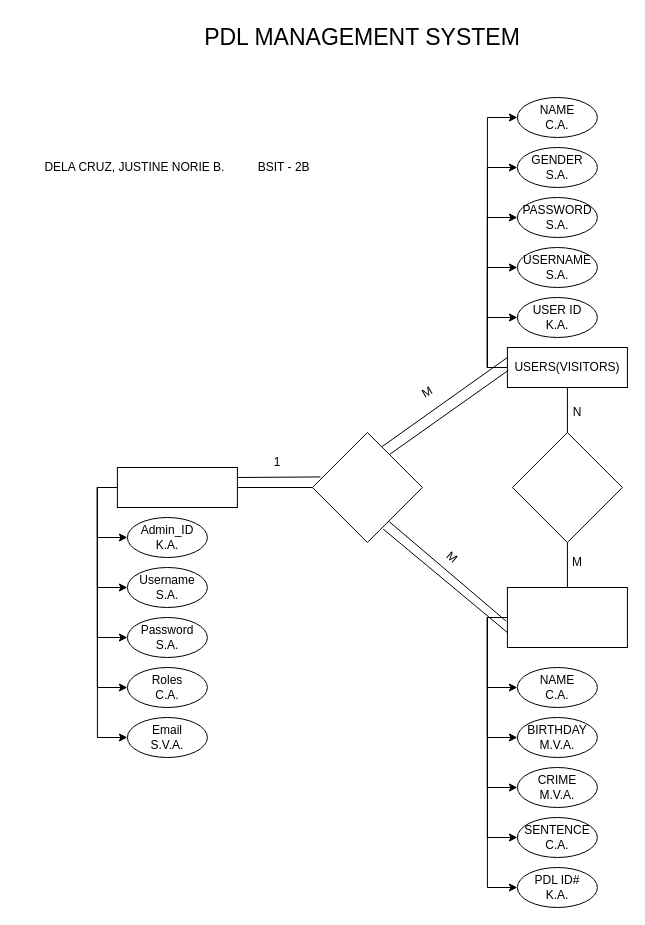
Image size: 645x925. Some labels were removed from this diagram. The shapes that lost their labels are listed below. From the top down, each one's box as (x1, y1, x2, y2) in pixels, then its label:
(116, 466, 237, 508): ADMIN
(311, 432, 422, 542): MANAGE
(511, 432, 622, 542): VISITS
(506, 586, 627, 648): PERSON DEPRIVED OF LIBERTY
